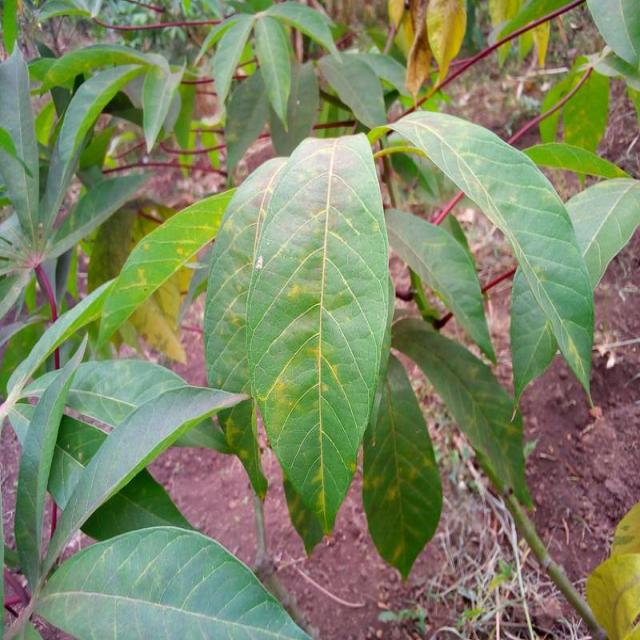cassava leaf: (385, 108, 596, 410), (243, 131, 394, 545), (32, 524, 312, 638)
